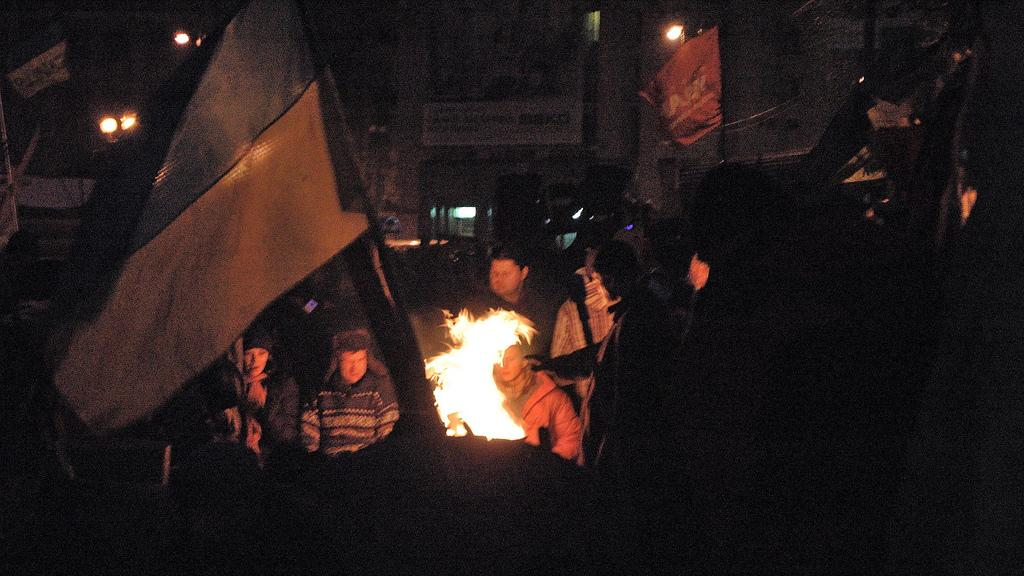fire: (451, 320, 494, 427)
